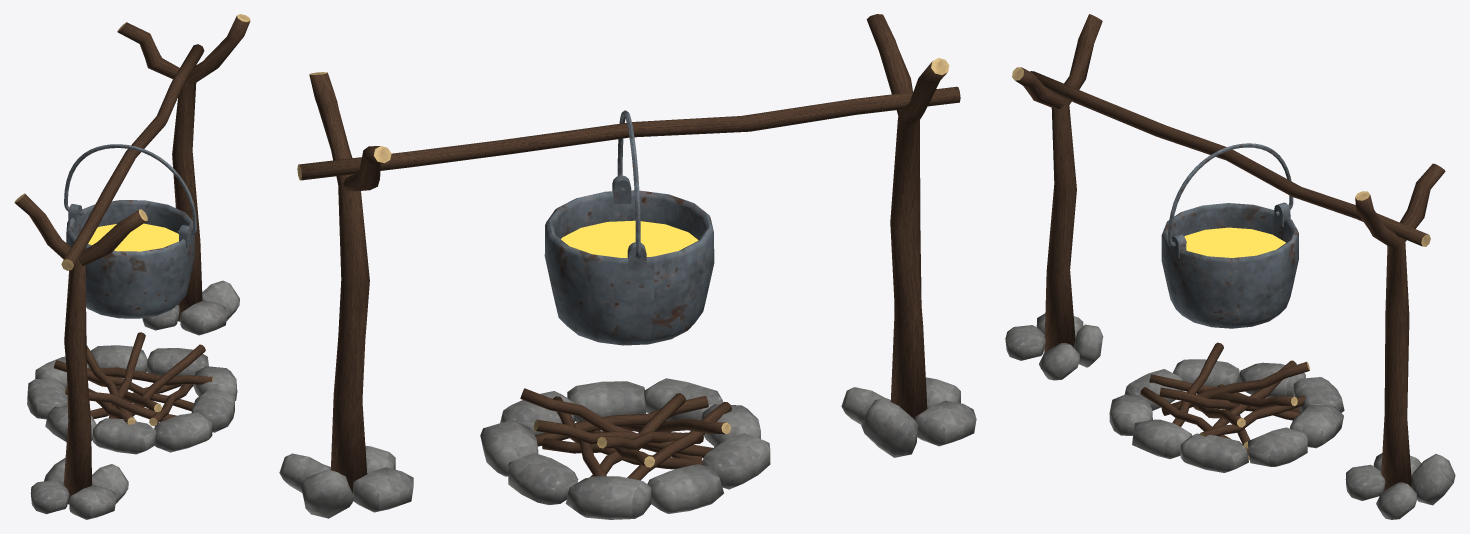
Rendered from cooking.glb.
3 renders of one model, left to right at view 1: azimuth 30°, elevation 25°; view 2: azimuth 150°, elevation 25°; view 3: azimuth 270°, elevation 25°, orthographic. The views are drawn at different scales.
Parts seen in each view (by area): view 1: Pan_3, Stick Base L_0, Stick Base R_1, Stick Fire_4, Stick Suport_2, Rocks_7, Rocks.008_15, Rocks.002_9, Rocks.009_16, Rocks.007_14, Rocks.013_20, Rocks.005_12 (+9 smaller); view 2: Pan_3, Stick Base L_0, Stick Base R_1, Stick Suport_2, Stick Fire_4, Rocks.003_10, Rocks.002_9, Rocks.004_11, Rocks.001_8, Rocks.015_22, Rocks.007_14, Rocks.005_12 (+8 smaller); view 3: Pan_3, Stick Base R_1, Stick Base L_0, Stick Fire_4, Stick Suport_2, Rocks.006_13, Rocks.005_12, Rocks.007_14, Rocks.011_18, Rocks.004_11, Rocks.008_15, Rocks.001_8 (+8 smaller).
Part boxes in pixels (left/top/right/bottom): Pan_3: left=64, top=144, right=196, bottom=318; Stick Base L_0: left=14, top=193, right=147, bottom=504; Stick Base R_1: left=117, top=14, right=250, bottom=321; Stick Fire_4: left=54, top=332, right=213, bottom=426; Stick Suport_2: left=61, top=44, right=204, bottom=270; Rocks_7: left=93, top=418, right=156, bottom=454; Rocks.008_15: left=154, top=412, right=212, bottom=452; Rocks.002_9: left=27, top=378, right=67, bottom=419; Rocks.009_16: left=180, top=300, right=227, bottom=335; Rocks.007_14: left=191, top=389, right=234, bottom=432; Rocks.013_20: left=69, top=485, right=116, bottom=519; Rocks.005_12: left=147, top=348, right=208, bottom=376; Pan_3: left=544, top=110, right=714, bottom=345; Stick Base L_0: left=866, top=14, right=949, bottom=419; Stick Base R_1: left=309, top=72, right=391, bottom=493; Stick Suport_2: left=297, top=86, right=960, bottom=180; Stick Fire_4: left=520, top=388, right=731, bottom=480; Rocks.003_10: left=565, top=476, right=651, bottom=519; Rocks.002_9: left=647, top=464, right=723, bottom=513; Rocks.004_11: left=508, top=453, right=578, bottom=505; Rocks.001_8: left=702, top=433, right=770, bottom=489; Rocks.015_22: left=861, top=398, right=918, bottom=457; Rocks.007_14: left=567, top=381, right=646, bottom=422; Rocks.005_12: left=480, top=419, right=538, bottom=476; Pan_3: left=1161, top=143, right=1298, bottom=328; Stick Base R_1: left=1355, top=163, right=1445, bottom=490; Stick Base L_0: left=1012, top=14, right=1102, bottom=352; Stick Fire_4: left=1140, top=342, right=1309, bottom=460; Stick Suport_2: left=1030, top=71, right=1430, bottom=246; Rocks.006_13: left=1180, top=433, right=1248, bottom=472; Rocks.005_12: left=1248, top=427, right=1307, bottom=466; Rocks.007_14: left=1132, top=419, right=1191, bottom=458; Rocks.011_18: left=1411, top=454, right=1455, bottom=505; Rocks.004_11: left=1290, top=404, right=1343, bottom=448; Rocks.008_15: left=1109, top=394, right=1152, bottom=435; Rocks.001_8: left=1173, top=359, right=1239, bottom=391.
Size of the model in its own units: 3.22 by 2.67 by 3.26.
Materials: 5 (4 with a texture image).
